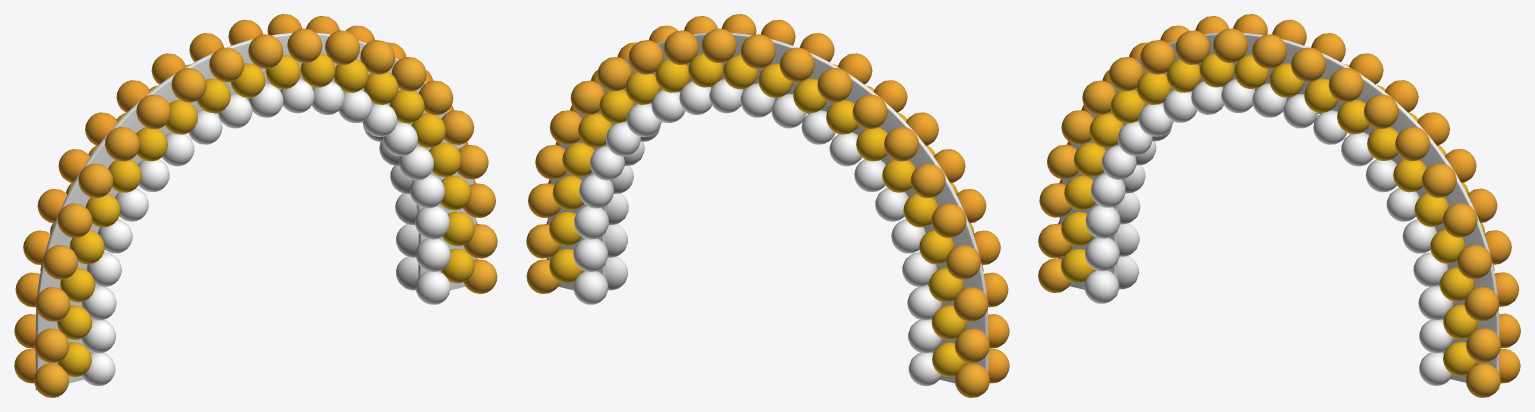
Rendered from PartyBalloons03_GR3_2.FBX.
The picture shows the model from 3 angles, left to right: view 1: azimuth 30°, elevation 25°; view 2: azimuth 150°, elevation 25°; view 3: azimuth 330°, elevation 25°; orthographic projection.
Parts seen in each view (by area): view 1: PartyBalloons03_GR3_2; view 2: PartyBalloons03_GR3_2; view 3: PartyBalloons03_GR3_2.
Part boxes in pixels (box(x1,y1,x2,y2)): PartyBalloons03_GR3_2: box(14, 14, 497, 397); PartyBalloons03_GR3_2: box(526, 14, 1009, 397); PartyBalloons03_GR3_2: box(1038, 14, 1520, 397).
Size of what is drawn, in the model's own units: 5.18 by 3.33 by 0.736.
